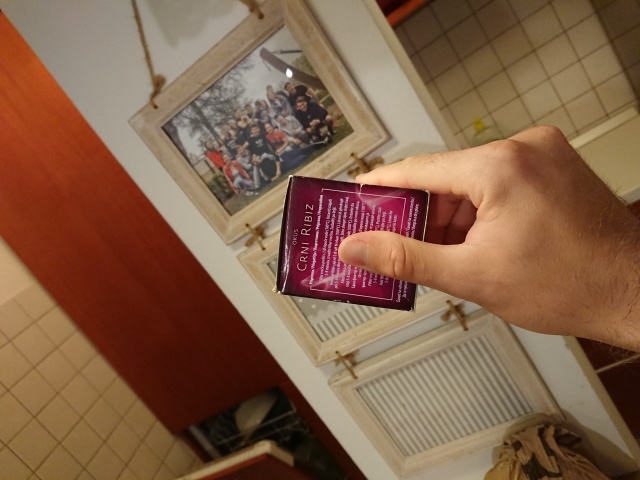Franck Black Currant Tea 60g: (271, 173, 433, 314)
